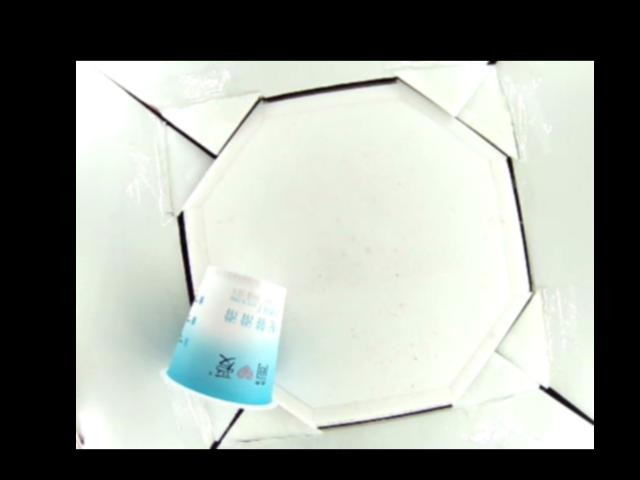Cup: (161, 267, 288, 412)
